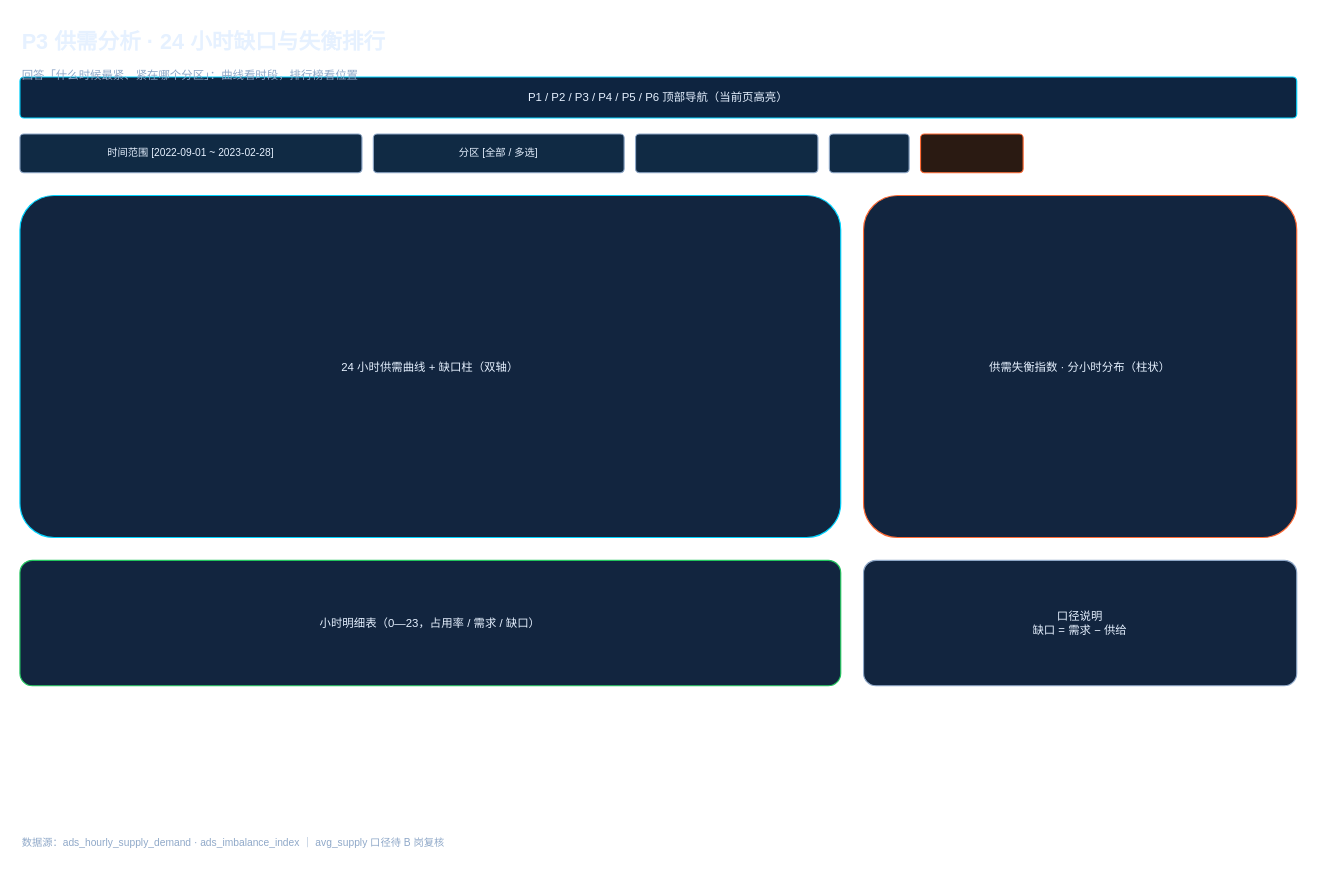
Image size: 1340x885. Some labels were removed from this diagram. The box of each missing label's shape, as (x1, y1, x2, y2) in pixels:
导出 CSV: (919, 133, 1023, 173)
小时 [0—23]: (634, 133, 818, 173)
重置: (828, 133, 909, 173)
